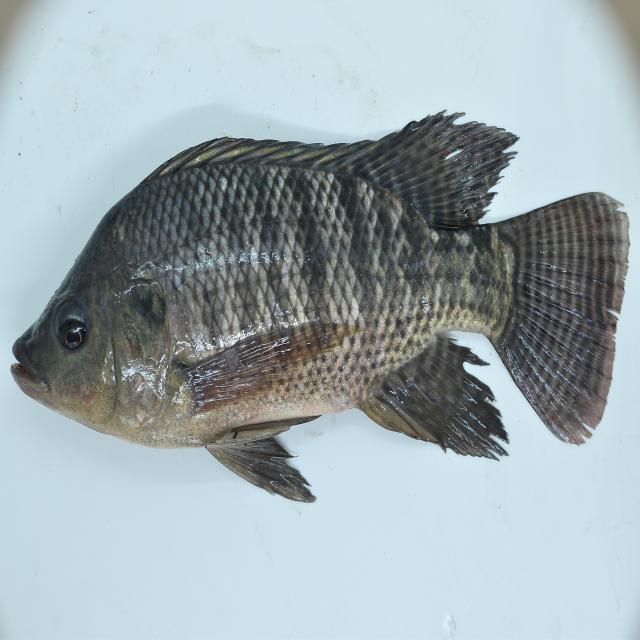Healthy Fish: (9, 110, 632, 502)
